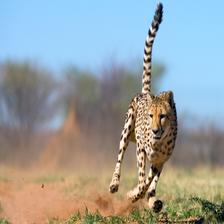Cheetah: (104, 0, 180, 212)
